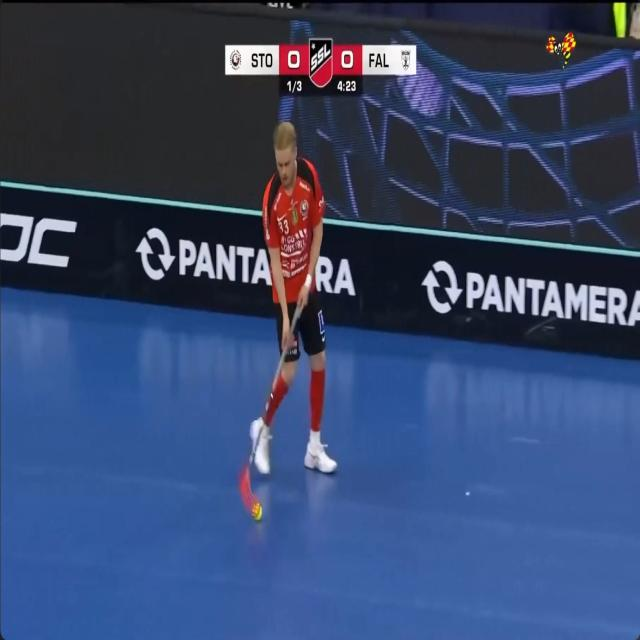Balls: (252, 502, 262, 521)
player: (250, 122, 336, 474)
